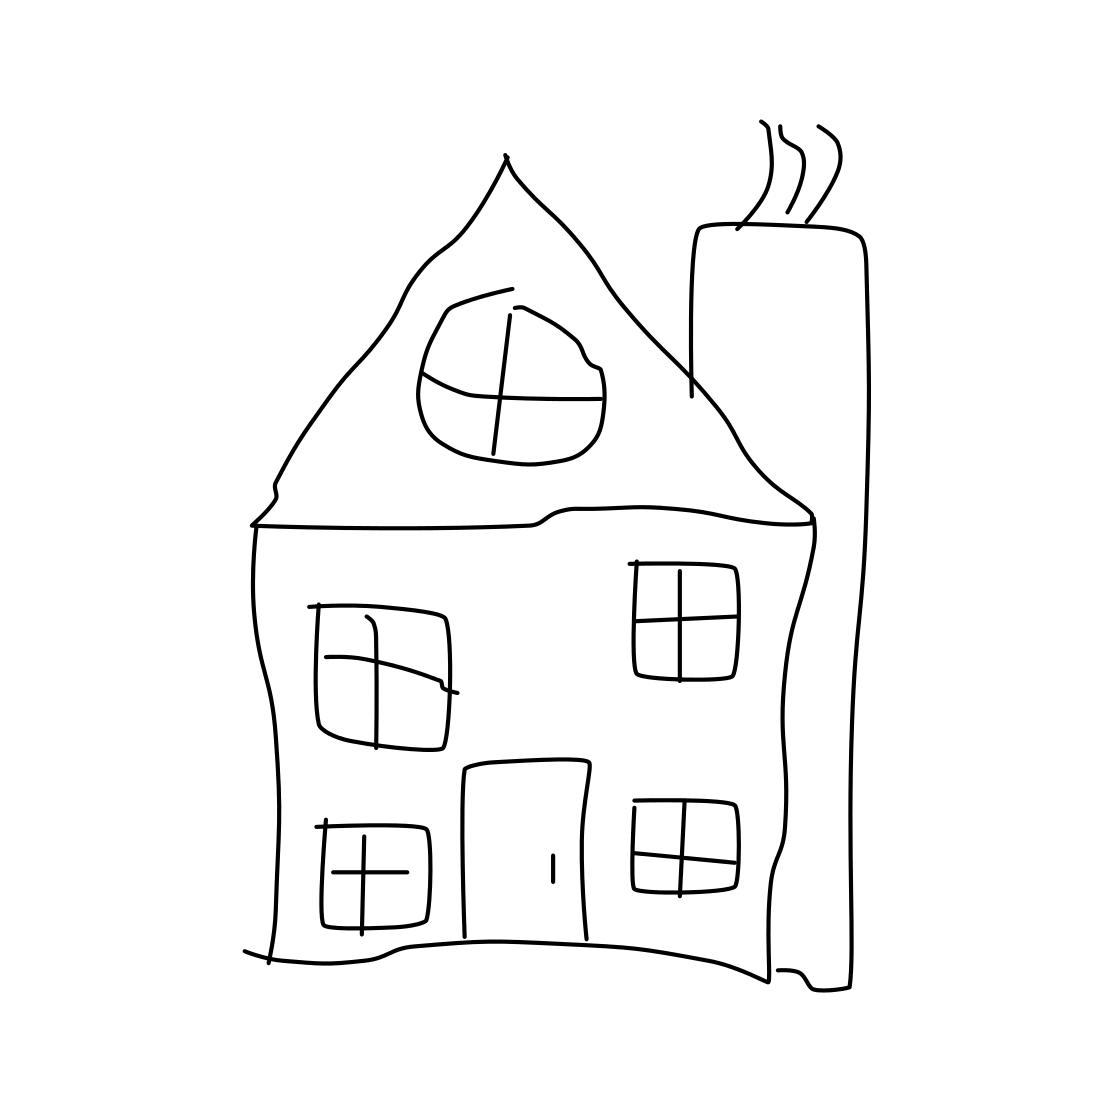chimney: (677, 97, 882, 509)
door: (457, 755, 598, 953)
house: (227, 97, 890, 1010)
roof: (251, 115, 877, 530)
window: (408, 280, 613, 485), (295, 583, 458, 757), (305, 804, 438, 935), (624, 553, 747, 685), (629, 786, 742, 896)
